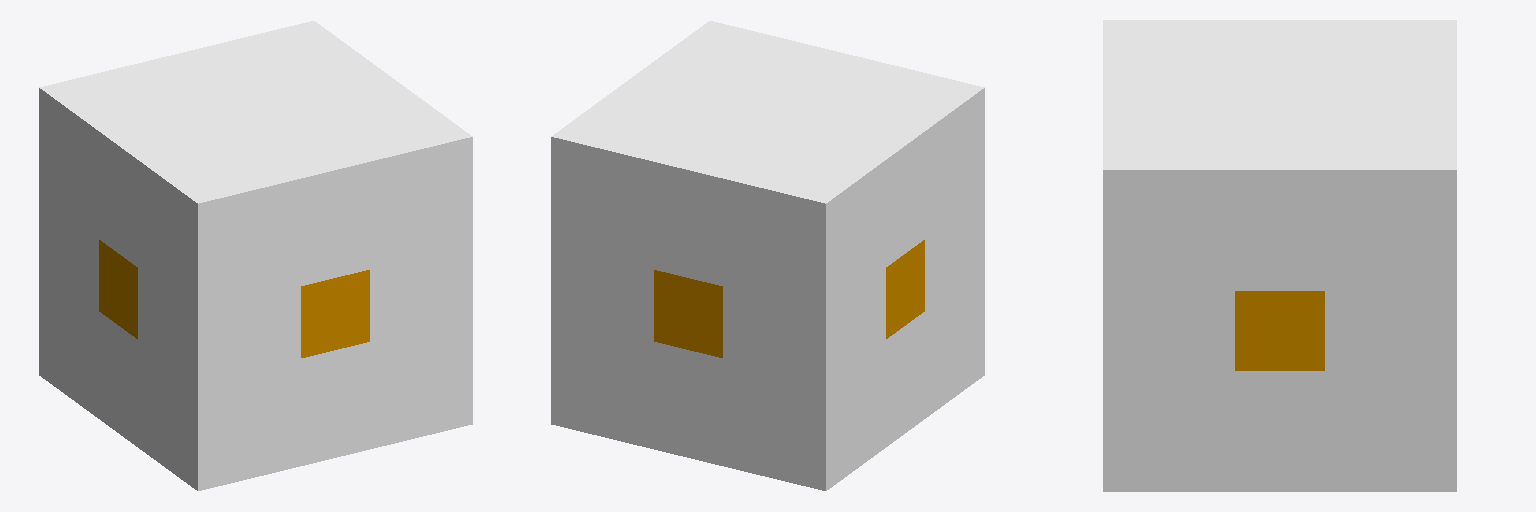
URDF robot description (movable_box):
<?xml version="1.0" ?>
<!-- =================================================================================== -->
<!-- |    This document was autogenerated by xacro from model_301.urdf.xacro           | -->
<!-- |    EDITING THIS FILE BY HAND IS NOT RECOMMENDED                                 | -->
<!-- =================================================================================== -->
<robot name="movable_box">
  <link name="box">
    <inertial>
      <origin rpy="1.5707963267948966 0 1.5707963267948966" xyz="0 0 0"/>
      <mass value="0.001"/>
      <inertia ixx="2.666666666666667e-05" ixy="0.0" ixz="0.0" iyy="2.666666666666667e-05" iyz="0.0" izz="2.666666666666667e-05"/>
    </inertial>
    <visual>
      <geometry>
        <!-- new mesh -->
        <mesh filename="package://namoros/models/movable_box/aruco_301.dae"/>
      </geometry>
      <origin rpy="0 0 0" xyz="0 0 -0.2"/>
    </visual>
    <collision>
      <geometry>
        <box size="0.4 0.4 0.4"/>
      </geometry>
    </collision>
  </link>
  <gazebo>
    <plugin filename="gz-sim-pose-publisher-system" name="gz::sim::systems::PosePublisher">
      <publish_link_pose>false</publish_link_pose>
      <publish_nested_model_pose>true</publish_nested_model_pose>
      <use_pose_vector_msg>true</use_pose_vector_msg>
      <update_frequency>30</update_frequency>
    </plugin>
  </gazebo>
</robot>

--- What the picture shows (computed from the rendered views, not written in the file) ---
Views: 3 orthographic renders of the robot side by side, from view 1: azimuth 30°, elevation 25°; view 2: azimuth 150°, elevation 25°; view 3: azimuth 270°, elevation 25°.
Robot: movable_box — 1 links, 0 joints (none); root link box; default pose: every joint at zero.
Visible links, largest first — view 1: box; view 2: box; view 3: box.
Boxes of the visible links, bbox=[...] form: box: bbox=[39, 21, 472, 490]; box: bbox=[551, 21, 984, 490]; box: bbox=[1103, 20, 1456, 491].
Size in the robot's own frame: 0.4 by 0.4 by 0.4 metres.
1 mesh visuals loaded from 1 distinct referenced files (1 Collada DAE).